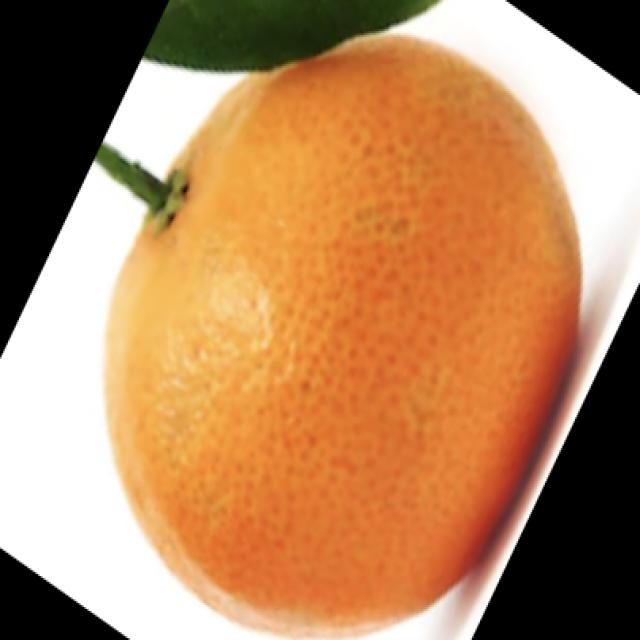fresh: (53, 18, 603, 636)
